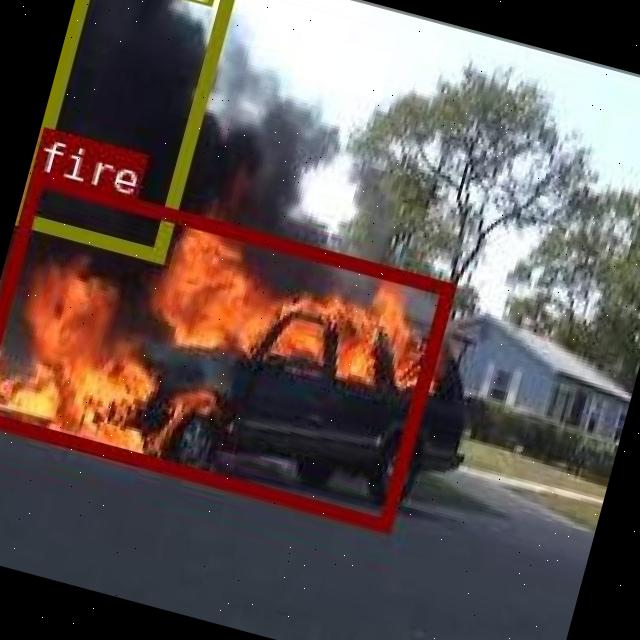fire: (0, 169, 454, 531)
smoke: (15, 0, 237, 258)
